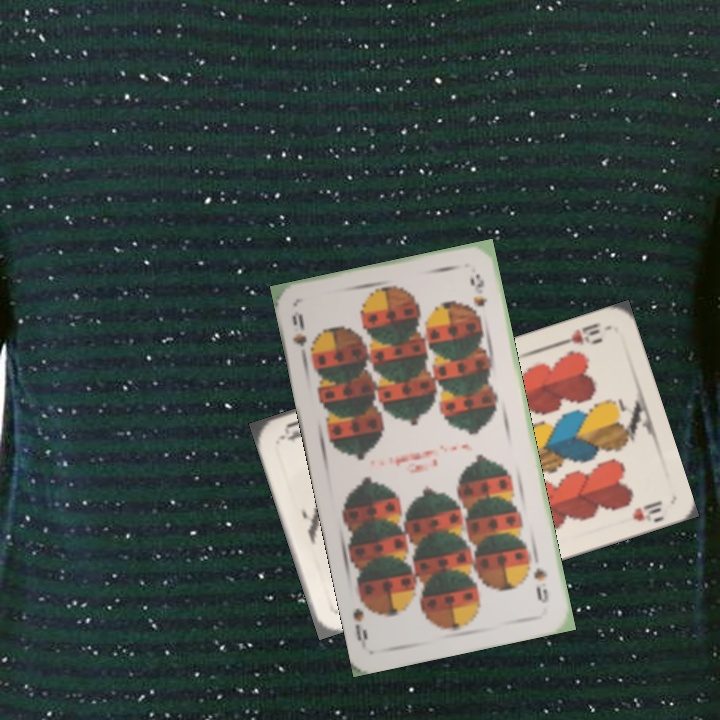H10: (553, 318, 605, 349)
S9: (287, 310, 310, 365), (529, 563, 551, 606)
